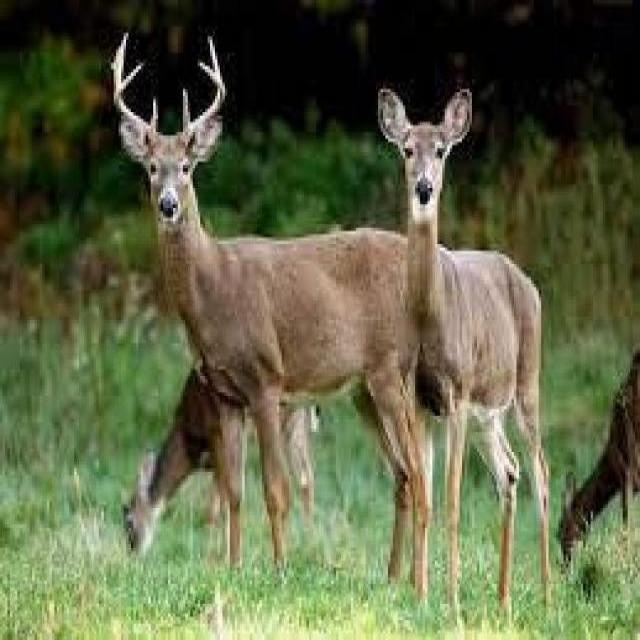deer: (366, 71, 556, 618)
